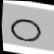no answer: (3, 13, 47, 47)
